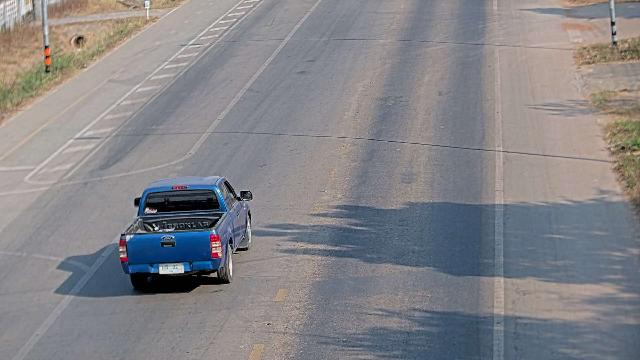pickup-truck: (118, 175, 253, 291)
